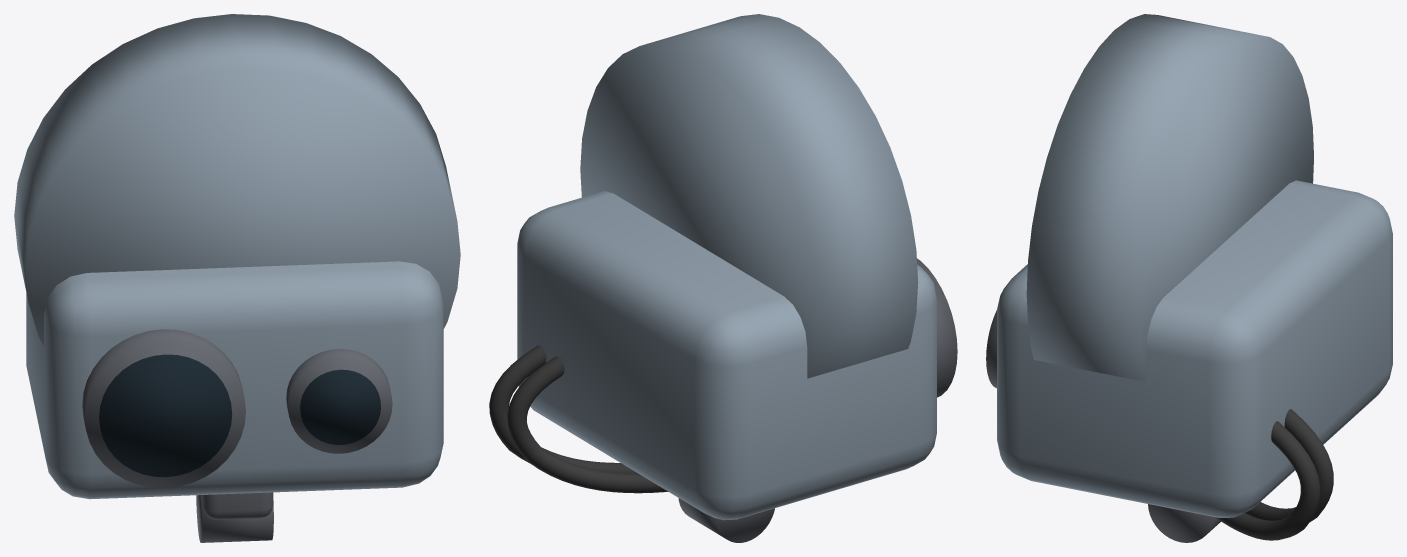
The model's file is CCTV_Head.fbx.
The picture shows the model from 3 angles, left to right: view 1: azimuth 30°, elevation 25°; view 2: azimuth 150°, elevation 25°; view 3: azimuth 270°, elevation 25°; orthographic projection. The views are drawn at different scales.
Visible parts, largest first — view 1: Head_Visor, Head_Body, Lens_Glass_L, Lens_Rim_L, Lens_Glass_S, Lens_Rim_S, Head_Knuckle_Pin, Head_Knuckle_Tab; view 2: Head_Body, Head_Visor, Head_Cables, Lens_Rim_L, Head_Knuckle_Pin; view 3: Head_Body, Head_Visor, Head_Cables, Head_Knuckle_Pin, Lens_Rim_S.
Part boxes in pixels (box(x1,y1,x2,y2)): Head_Visor: box(14, 14, 460, 345); Head_Body: box(26, 261, 443, 499); Lens_Glass_L: box(99, 354, 232, 477); Lens_Rim_L: box(82, 329, 245, 488); Lens_Glass_S: box(300, 369, 380, 444); Lens_Rim_S: box(286, 349, 392, 453); Head_Knuckle_Pin: box(196, 495, 273, 542); Head_Knuckle_Tab: box(201, 492, 273, 519); Head_Body: box(517, 191, 936, 520); Head_Visor: box(580, 14, 918, 378); Head_Cables: box(489, 345, 668, 493); Lens_Rim_L: box(917, 258, 957, 397); Head_Knuckle_Pin: box(678, 498, 774, 542); Head_Body: box(997, 180, 1392, 517); Head_Visor: box(1026, 14, 1313, 381); Head_Cables: box(1215, 409, 1333, 540); Head_Knuckle_Pin: box(1148, 504, 1220, 542); Lens_Rim_S: box(986, 310, 996, 388).
Bounding box in the file's own units: 98.54 × 118 × 89.99.
